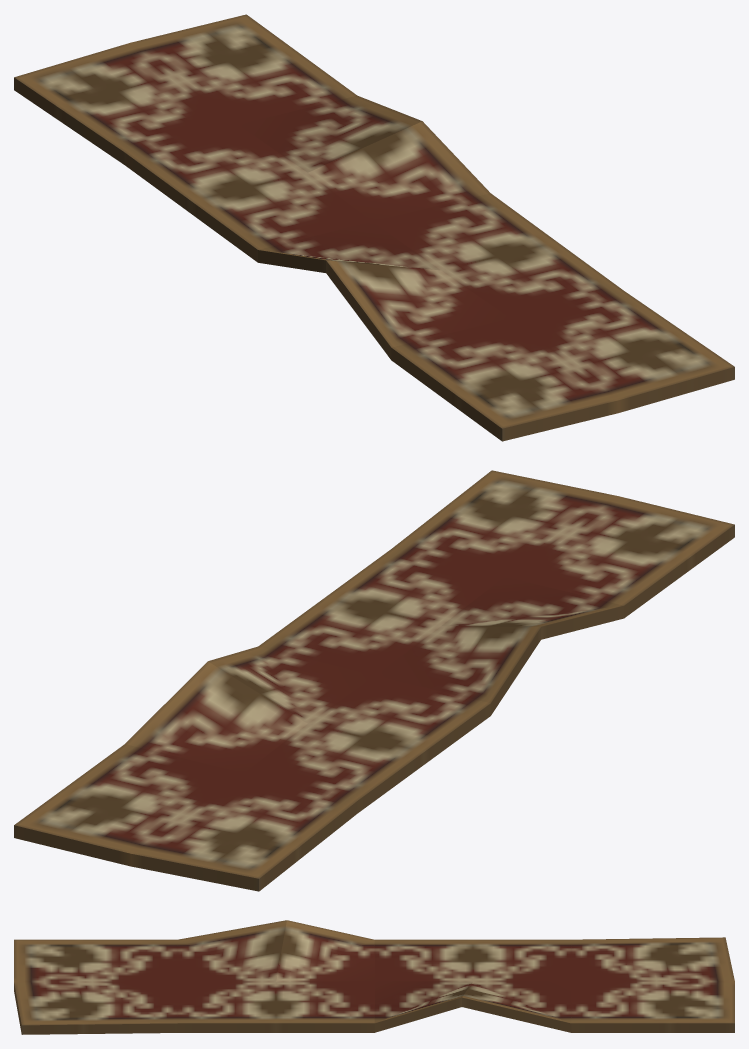
Rendered from SM_Prop_Rug_22.fbx.
The picture shows the model from 3 angles, top to bottom: view 1: azimuth 30°, elevation 25°; view 2: azimuth 150°, elevation 25°; view 3: azimuth 270°, elevation 25°; orthographic projection. The views are drawn at different scales.
Parts seen in each view (by area): view 1: SM_Prop_Rug_22; view 2: SM_Prop_Rug_22; view 3: SM_Prop_Rug_22.
Boxes of the visible parts, x1,y1,x2,y2 form: SM_Prop_Rug_22: (14,14,734,441); SM_Prop_Rug_22: (14,470,734,891); SM_Prop_Rug_22: (14,920,734,1034).
Bounding box in the file's own units: 81.32 × 13.87 × 282.
